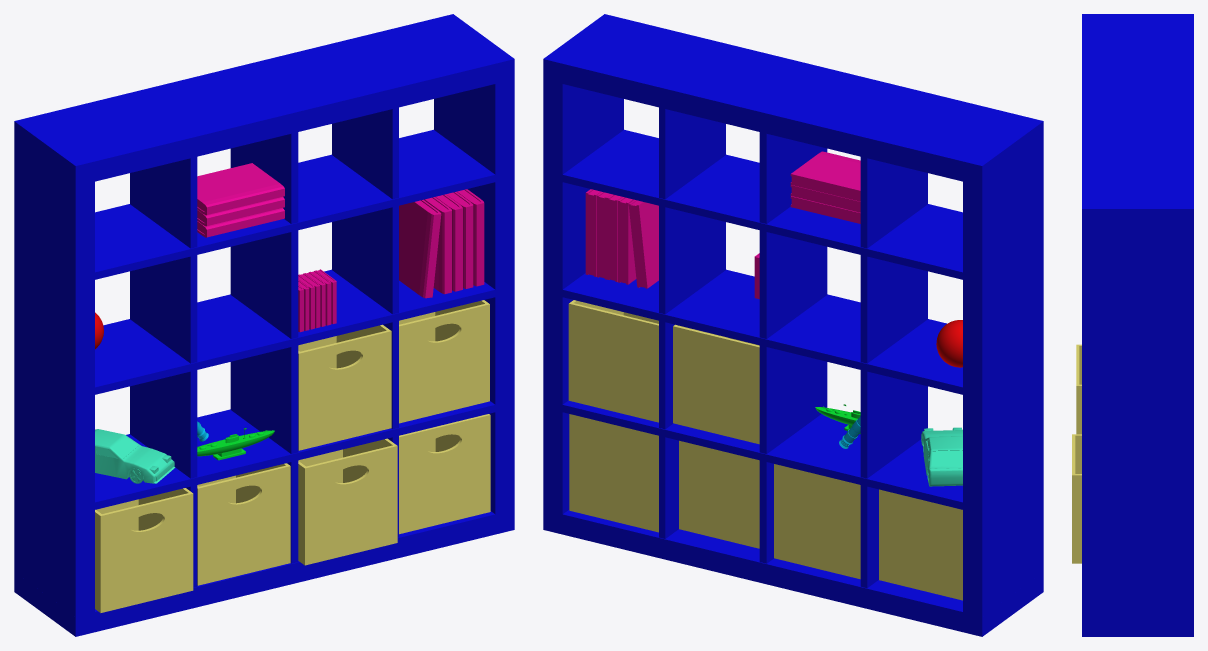
The model's file is Kallax_Regal.glb.
3 renders of one model, left to right at view 1: azimuth 30°, elevation 25°; view 2: azimuth 150°, elevation 25°; view 3: azimuth 270°, elevation 25°, orthographic. The views are drawn at different scales.
Visible parts, largest first — view 1: Cube.009, Cube.023, Cube.027, Cube.028, Cube.026, Cube.029, Cube.025, Cube.033, Cube.043, Cube.030, Cube.044, Cylinder.009; view 2: Cube.009, Cube.029, Cube.025, Cube.028, Cube.026, Cube.027, Cube.023, Cube.033, Cube.043, Cube.030, Sphere.005; view 3: Cube.009, Cube.023, Cube.027.
Part boxes in pixels (x1,y1,x2,y2): Cube.009: [14, 14, 514, 636]; Cube.023: [298, 438, 397, 565]; Cube.027: [95, 488, 193, 612]; Cube.028: [298, 324, 391, 450]; Cube.026: [197, 463, 290, 585]; Cube.029: [399, 300, 489, 423]; Cube.025: [399, 414, 490, 534]; Cube.033: [399, 189, 484, 298]; Cube.043: [197, 163, 284, 237]; Cube.030: [95, 429, 175, 483]; Cube.044: [298, 269, 336, 332]; Cylinder.009: [197, 428, 274, 460]; Cube.009: [543, 14, 1043, 636]; Cube.029: [568, 300, 658, 422]; Cube.025: [569, 414, 658, 532]; Cube.028: [673, 324, 759, 444]; Cube.026: [774, 464, 860, 579]; Cube.027: [879, 489, 962, 600]; Cube.023: [679, 440, 759, 548]; Cube.033: [585, 189, 658, 288]; Cube.043: [790, 151, 860, 223]; Cube.030: [921, 427, 962, 486]; Sphere.005: [936, 320, 962, 367]; Cube.009: [1082, 14, 1193, 636]; Cube.023: [1072, 434, 1081, 563]; Cube.027: [1076, 344, 1081, 434].
Size of the model in its own units: 3.99 by 4.09 by 1.05.
